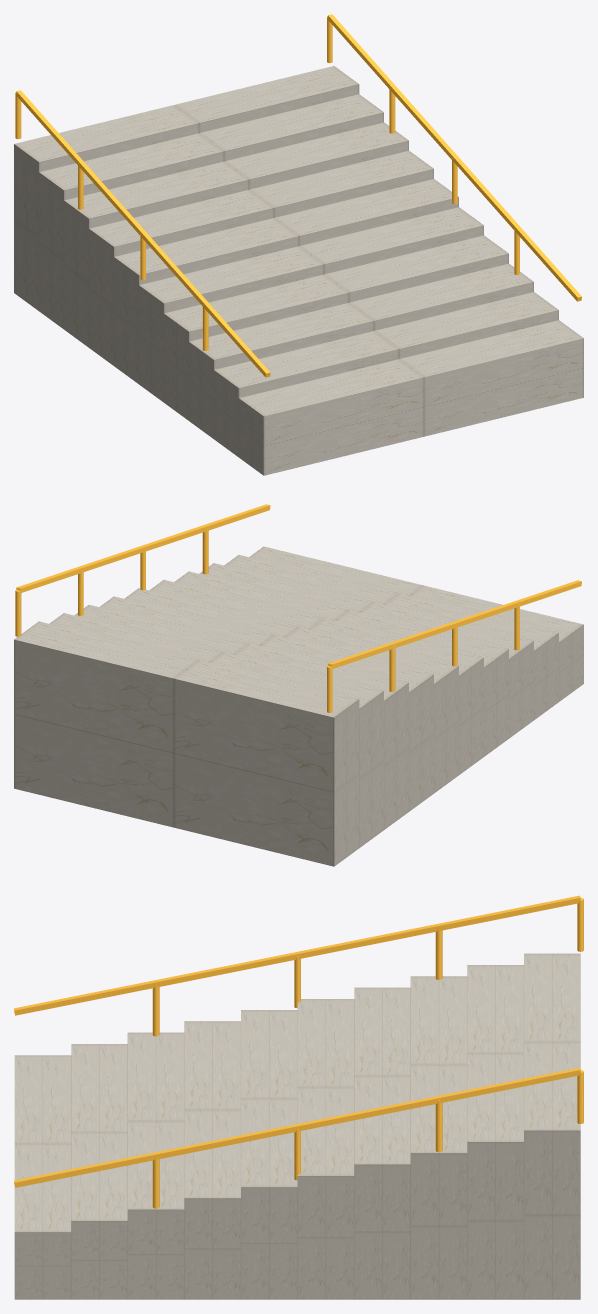
The model's file is stairway-floor-10m.glb.
3 renders of one model, top to bottom at view 1: azimuth 30°, elevation 25°; view 2: azimuth 150°, elevation 25°; view 3: azimuth 270°, elevation 25°, orthographic. The views are drawn at different scales.
Visible parts, largest first — view 1: stairway floor (10 m); view 2: stairway floor (10 m); view 3: stairway floor (10 m).
Boxes of the visible parts, left/top/right/bottom form: stairway floor (10 m): left=14, top=14, right=583, bottom=475; stairway floor (10 m): left=14, top=504, right=583, bottom=866; stairway floor (10 m): left=14, top=895, right=583, bottom=1299.
Bounding box in the file's own units: 7.4 × 4.45 × 10.07.
2 materials, 1 textured.
